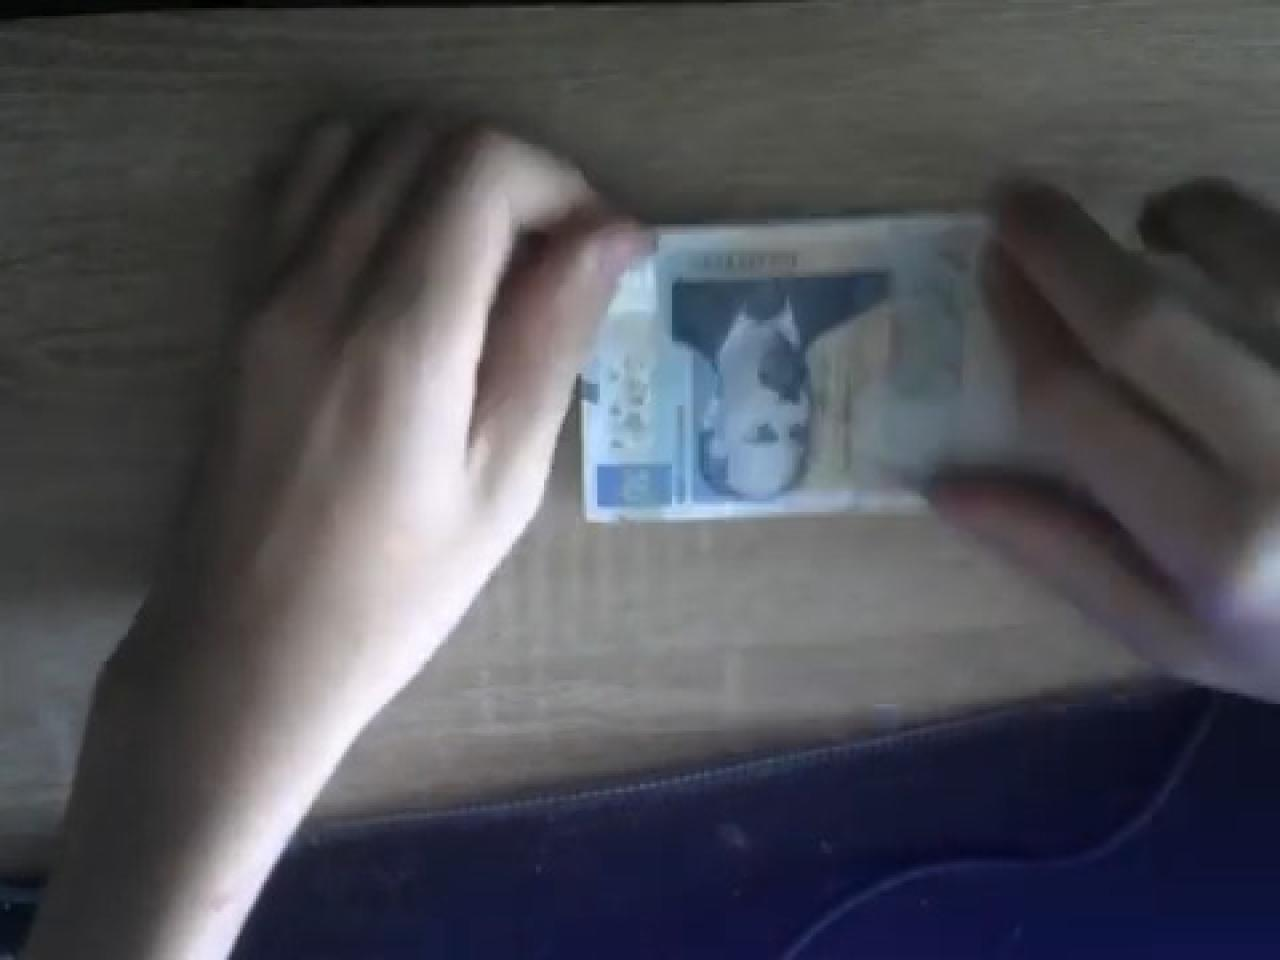20leva: (584, 221, 896, 517)
